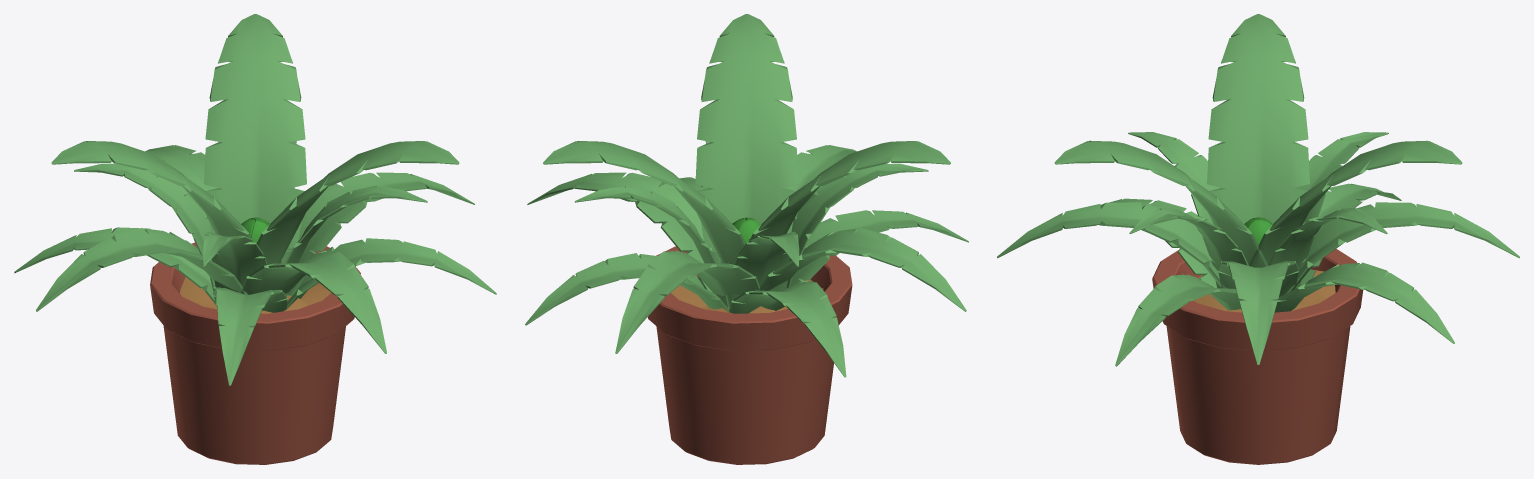
The model's file is Potted_Plant_New.fbx.
3 views of the same model, side by side, from view 1: azimuth 30°, elevation 25°; view 2: azimuth 150°, elevation 25°; view 3: azimuth 270°, elevation 25° (orthographic).
Parts seen in each view (by area): view 1: pCube118; view 2: pCube118; view 3: pCube118.
Boxes of the visible parts, <box> form: pCube118: <box>14,14,496,464</box>; pCube118: <box>525,14,968,464</box>; pCube118: <box>997,14,1519,464</box>.
Bounding box in the file's own units: 218 × 154 × 225.
